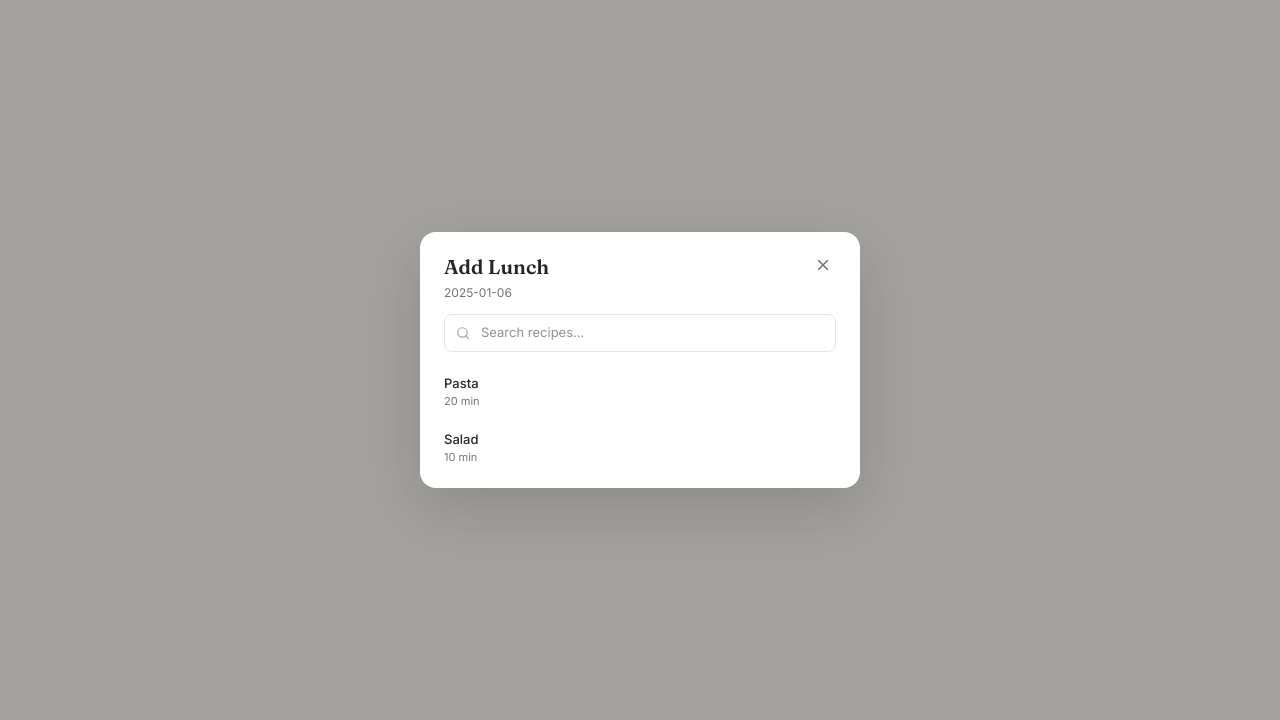
Scenario: AddMealModal › renders recipes and filters by search
Expected: the text "Pasta" is shown, [444, 374, 480, 393]
Expected: the text "Salad" is shown, [444, 430, 478, 449]
Step 1. Type "sal" into the field with placeholder "Search recipes…" → (640, 333), box [444, 314, 836, 352]
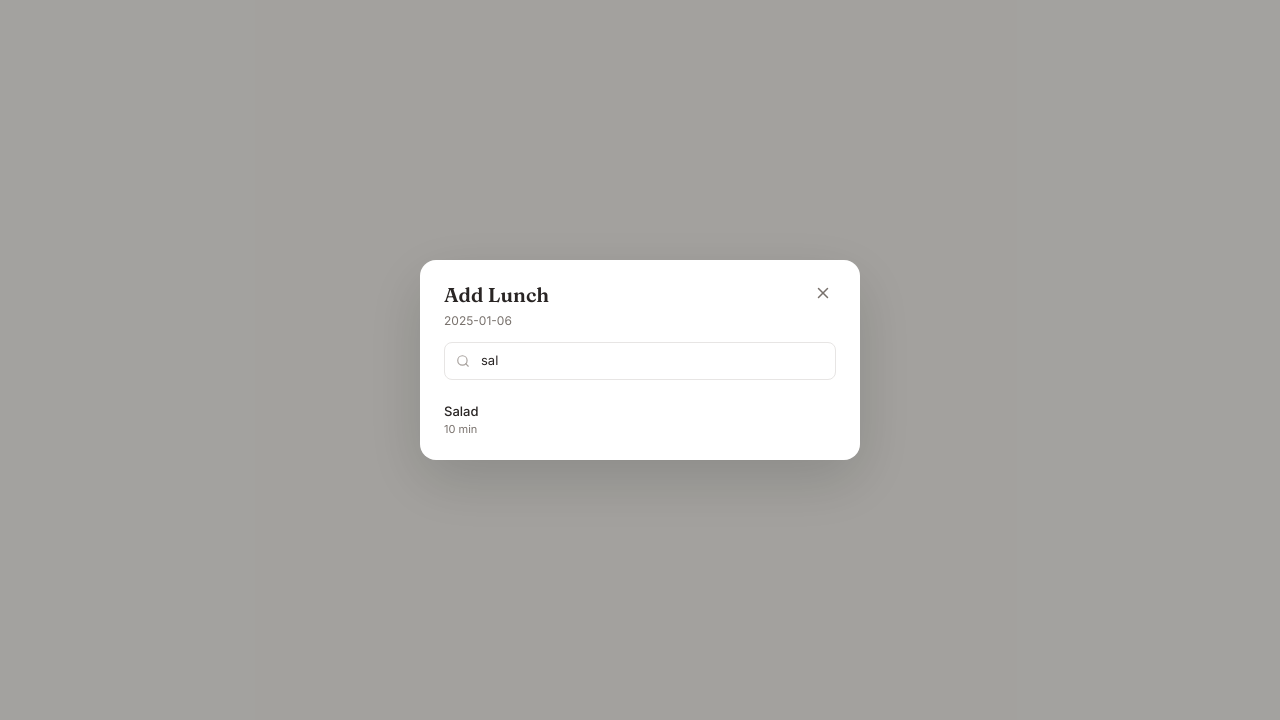
Expected: the text "Salad" is shown, [444, 402, 478, 421]
Expected: the button "Pasta" is gone
